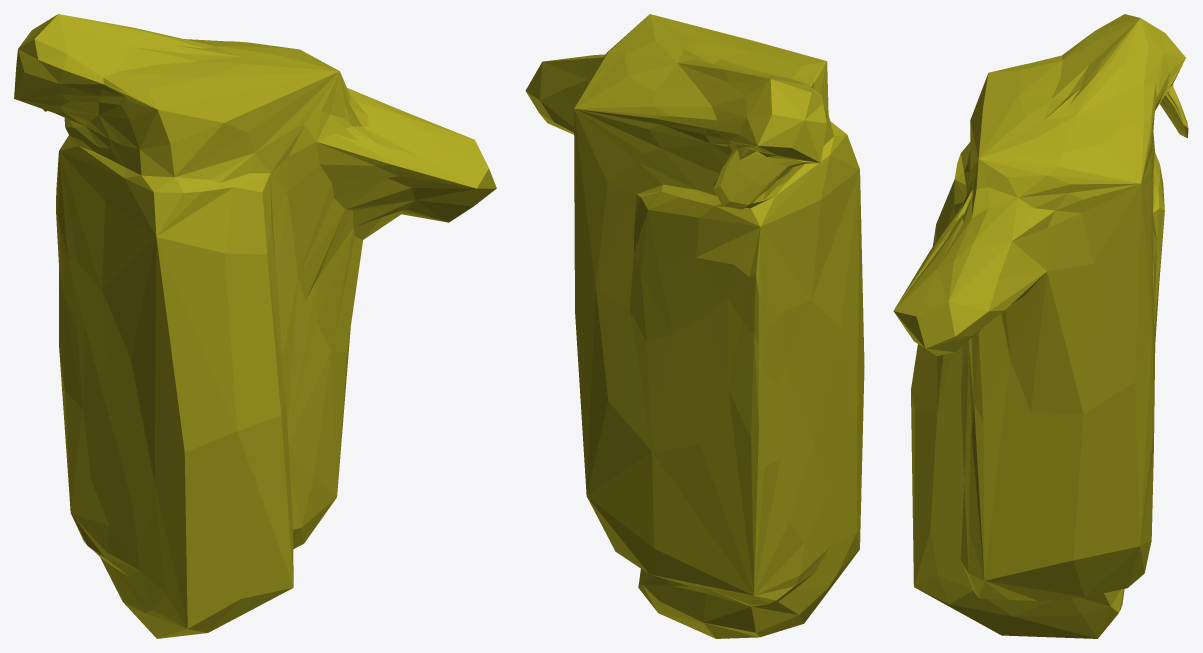
The picture shows the model from 3 angles, left to right: view 1: azimuth 30°, elevation 25°; view 2: azimuth 150°, elevation 25°; view 3: azimuth 270°, elevation 25°; orthographic projection. The views are drawn at different scales.
Visible parts, largest first — view 1: 158_Cube.659; view 2: 158_Cube.659; view 3: 158_Cube.659.
Part boxes in pixels (<box>): 158_Cube.659: <box>14,14,496,638</box>; 158_Cube.659: <box>525,14,864,638</box>; 158_Cube.659: <box>893,14,1188,638</box>.
Size of the model in its own units: 10.31 by 15.22 by 7.07.
